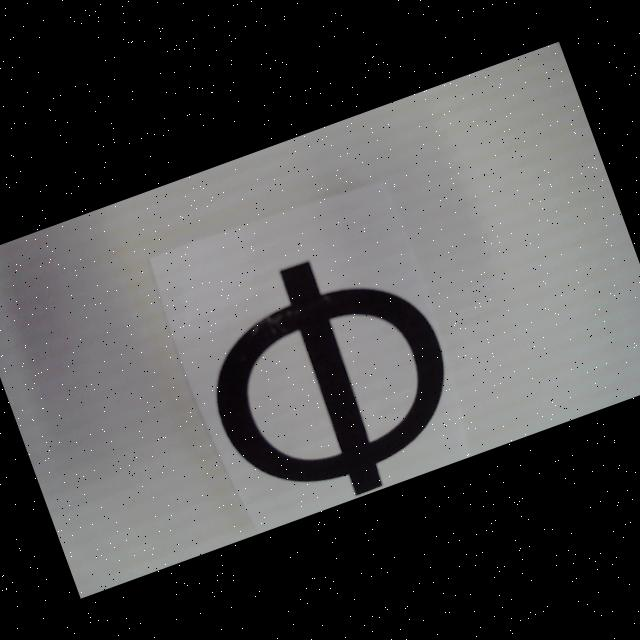PHI: (180, 226, 480, 531)
